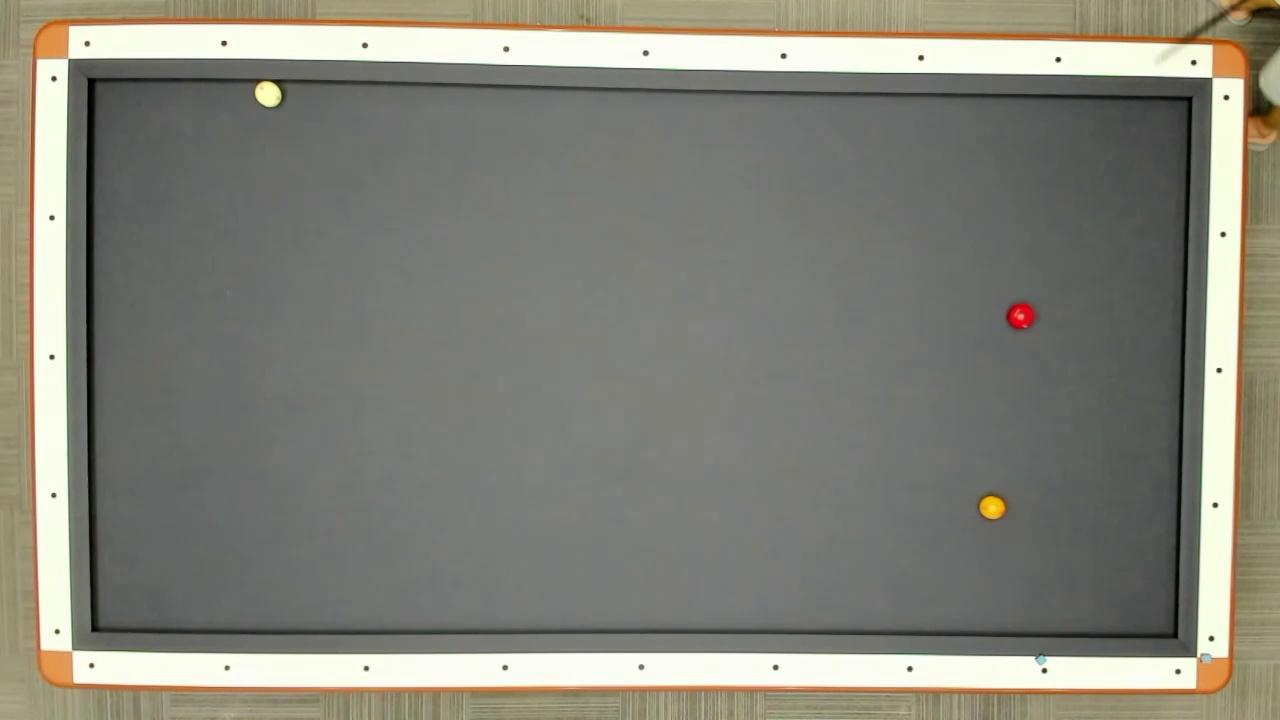Red: (1005, 300, 1039, 332)
White: (252, 78, 286, 111)
Yellow: (977, 492, 1008, 523)
